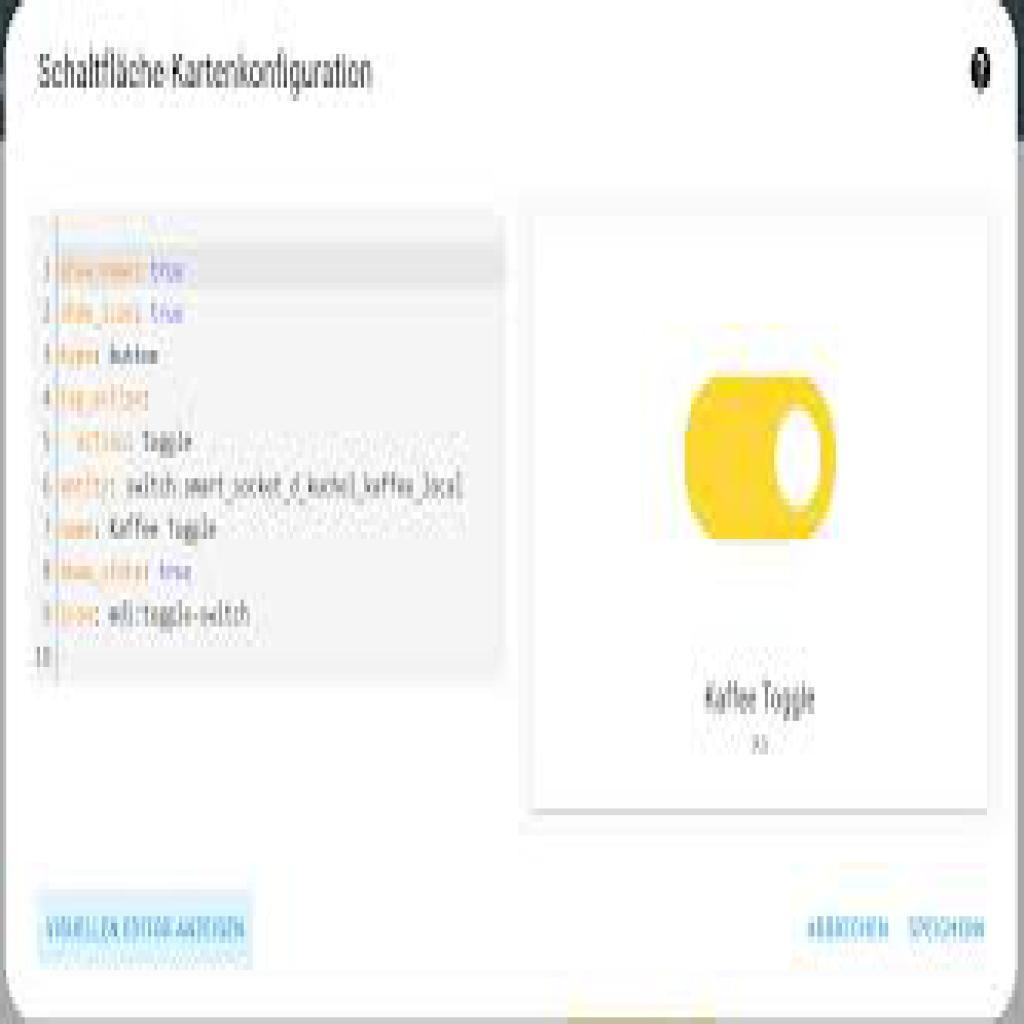button: (35, 890, 255, 972)
icon: (964, 45, 1002, 99)
switch: (685, 378, 837, 543)
